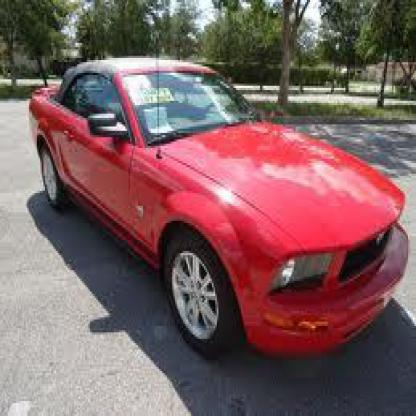Vehicle: (26, 51, 414, 369)
